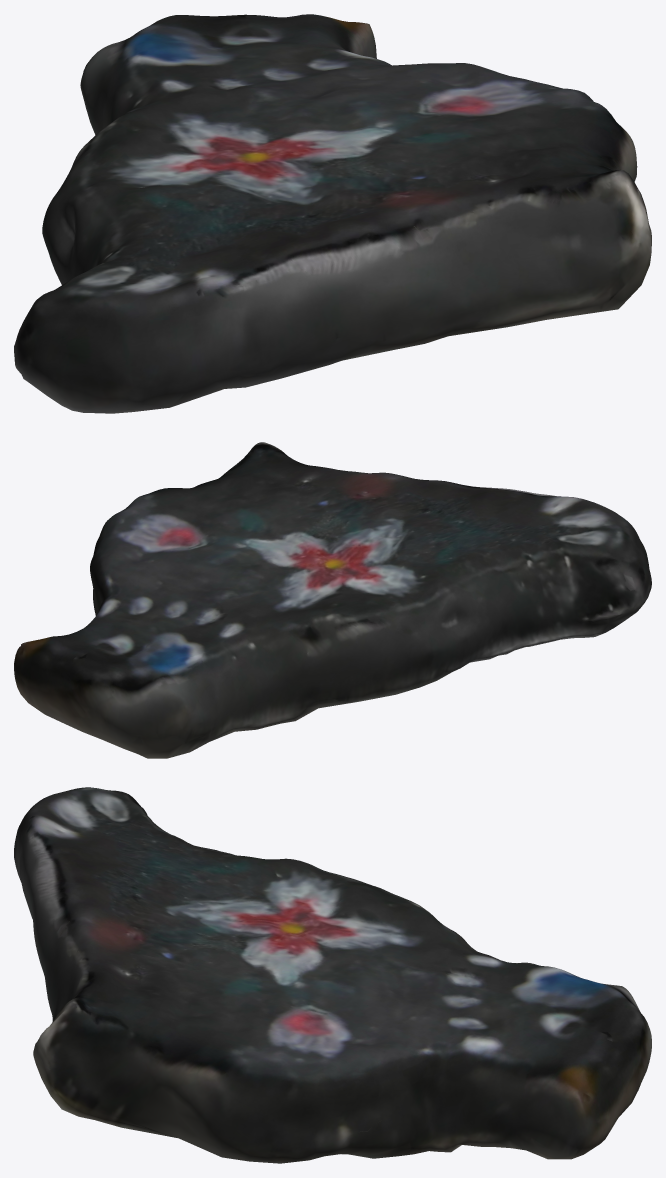
3 renders of one model, top to bottom at view 1: azimuth 30°, elevation 25°; view 2: azimuth 150°, elevation 25°; view 3: azimuth 270°, elevation 25°, orthographic. The views are drawn at different scales.
Size of the model in its own units: 0.4294 by 0.1211 by 0.4185.
1 material, 1 textured.
